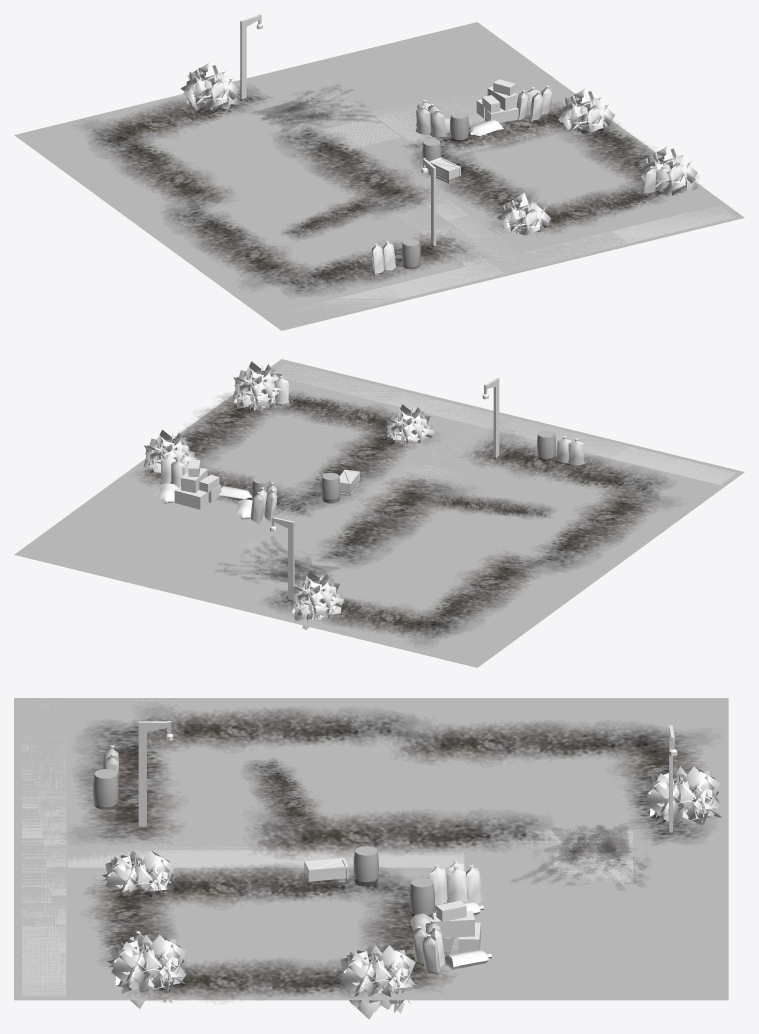
File: propsonly_bakery4b.gltf
The picture shows the model from 3 angles, top to bottom: view 1: azimuth 30°, elevation 25°; view 2: azimuth 150°, elevation 25°; view 3: azimuth 270°, elevation 25°; orthographic projection. The views are drawn at different scales.
Parts seen in each view (by area): view 1: file_b2_ground3.017, file_b2_ground1.032, file_b2_ground3.012, file_b2_ground2.005, file_b2_ground3.019, file_b2_ground1.036, file_b2_ground1.037, file_b2_ground1.035, file_b2_ground1.034, file_b2_ground3.026, file_b2_ground3.025, file_b2_ground3.027 (+28 smaller); view 2: file_b2_ground3.017, file_b2_ground1.035, file_b2_ground1.036, file_b2_ground1.032, file_b2_ground3.012, file_b2_ground1.034, file_b2_ground3.018, file_b2_ground2.005, file_b2_ground3.019, file_b12_ground.004, file_b2_ground1.037, FeedbackBlocker.017 (+26 smaller); view 3: file_b2_ground3.017, file_b2_ground1.036, file_b2_ground1.032, file_b2_ground3.012, file_b2_ground3.019, file_b2_ground1.035, file_b2_ground1.037, file_b2_ground1.034, file_b2_ground3.018, file_b2_ground3.026, file_b2_ground2.005, file_b2_ground3.025 (+31 smaller).
Boxes of the visible parts, bbox=[...] form: file_b2_ground3.017: bbox=[353, 22, 548, 103]; file_b2_ground1.032: bbox=[258, 177, 453, 255]; file_b2_ground3.012: bbox=[14, 105, 202, 187]; file_b2_ground2.005: bbox=[247, 50, 435, 132]; file_b2_ground3.019: bbox=[216, 249, 405, 330]; file_b2_ground1.036: bbox=[86, 152, 268, 230]; file_b2_ground1.037: bbox=[145, 208, 330, 282]; file_b2_ground1.035: bbox=[193, 128, 387, 201]; file_b2_ground1.034: bbox=[484, 121, 655, 194]; file_b2_ground3.026: bbox=[447, 195, 631, 275]; file_b2_ground3.025: bbox=[127, 77, 321, 153]; file_b2_ground3.027: bbox=[549, 177, 744, 246]; file_b2_ground3.017: bbox=[14, 503, 208, 584]; file_b2_ground1.035: bbox=[305, 517, 500, 592]; file_b2_ground1.036: bbox=[418, 540, 613, 619]; file_b2_ground1.032: bbox=[371, 467, 565, 539]; file_b2_ground3.012: bbox=[353, 590, 542, 667]; file_b2_ground1.034: bbox=[174, 407, 338, 485]; file_b2_ground3.018: bbox=[436, 414, 631, 489]; file_b2_ground2.005: bbox=[128, 537, 315, 611]; file_b2_ground3.019: bbox=[555, 443, 744, 524]; file_b12_ground.004: bbox=[193, 485, 381, 563]; file_b2_ground1.037: bbox=[502, 489, 672, 567]; FeedbackBlocker.017: bbox=[275, 363, 735, 484]; file_b2_ground3.017: bbox=[537, 919, 728, 1000]; file_b2_ground1.036: bbox=[362, 698, 554, 778]; file_b2_ground1.032: bbox=[188, 771, 379, 852]; file_b2_ground3.012: bbox=[537, 698, 728, 778]; file_b2_ground3.019: bbox=[14, 698, 205, 778]; file_b2_ground1.035: bbox=[362, 771, 554, 852]; file_b2_ground1.037: bbox=[188, 698, 379, 778]; file_b2_ground1.034: bbox=[188, 919, 379, 1000]; file_b2_ground3.018: bbox=[14, 771, 205, 852]; file_b2_ground3.026: bbox=[14, 845, 205, 926]; file_b2_ground2.005: bbox=[537, 846, 728, 926]; file_b2_ground3.025: bbox=[537, 771, 728, 852].
Size of what is drawn, in the model's own units: 4.28 by 0.8508 by 4.19.
